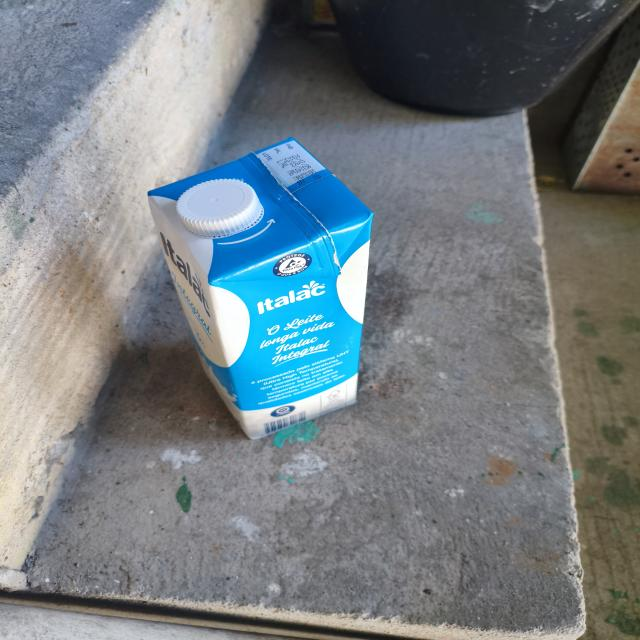Caixa de Leite: (137, 134, 374, 440)
